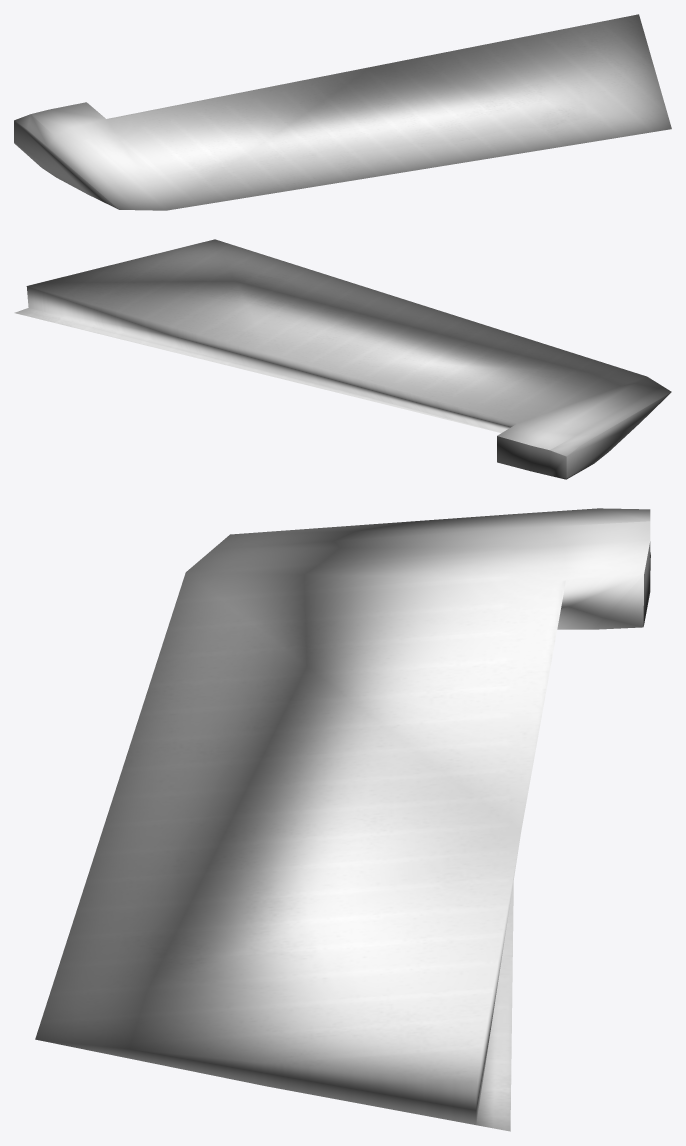
Rendered from elevator_left.glb.
The picture shows the model from 3 angles, top to bottom: view 1: azimuth 30°, elevation 25°; view 2: azimuth 150°, elevation 25°; view 3: azimuth 270°, elevation 25°; orthographic projection. The views are drawn at different scales.
Parts seen in each view (by area): view 1: elevator_left; view 2: elevator_left; view 3: elevator_left.
Boxes of the visible parts, bbox=[...] form: elevator_left: bbox=[14, 14, 671, 210]; elevator_left: bbox=[14, 239, 671, 479]; elevator_left: bbox=[35, 508, 650, 1131].
Size of the model in its own units: 1.72 by 0.0831 by 0.7836.
1 material, 1 textured.
